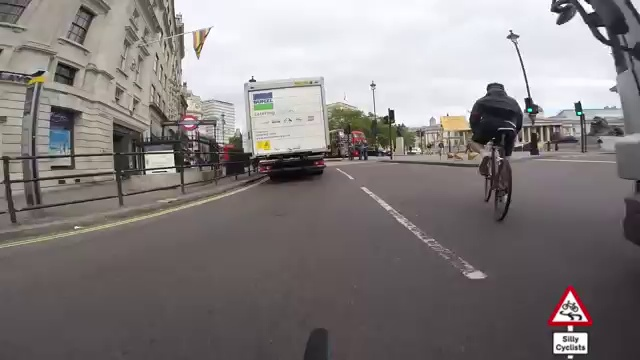cyclist_back: (471, 80, 526, 224)
